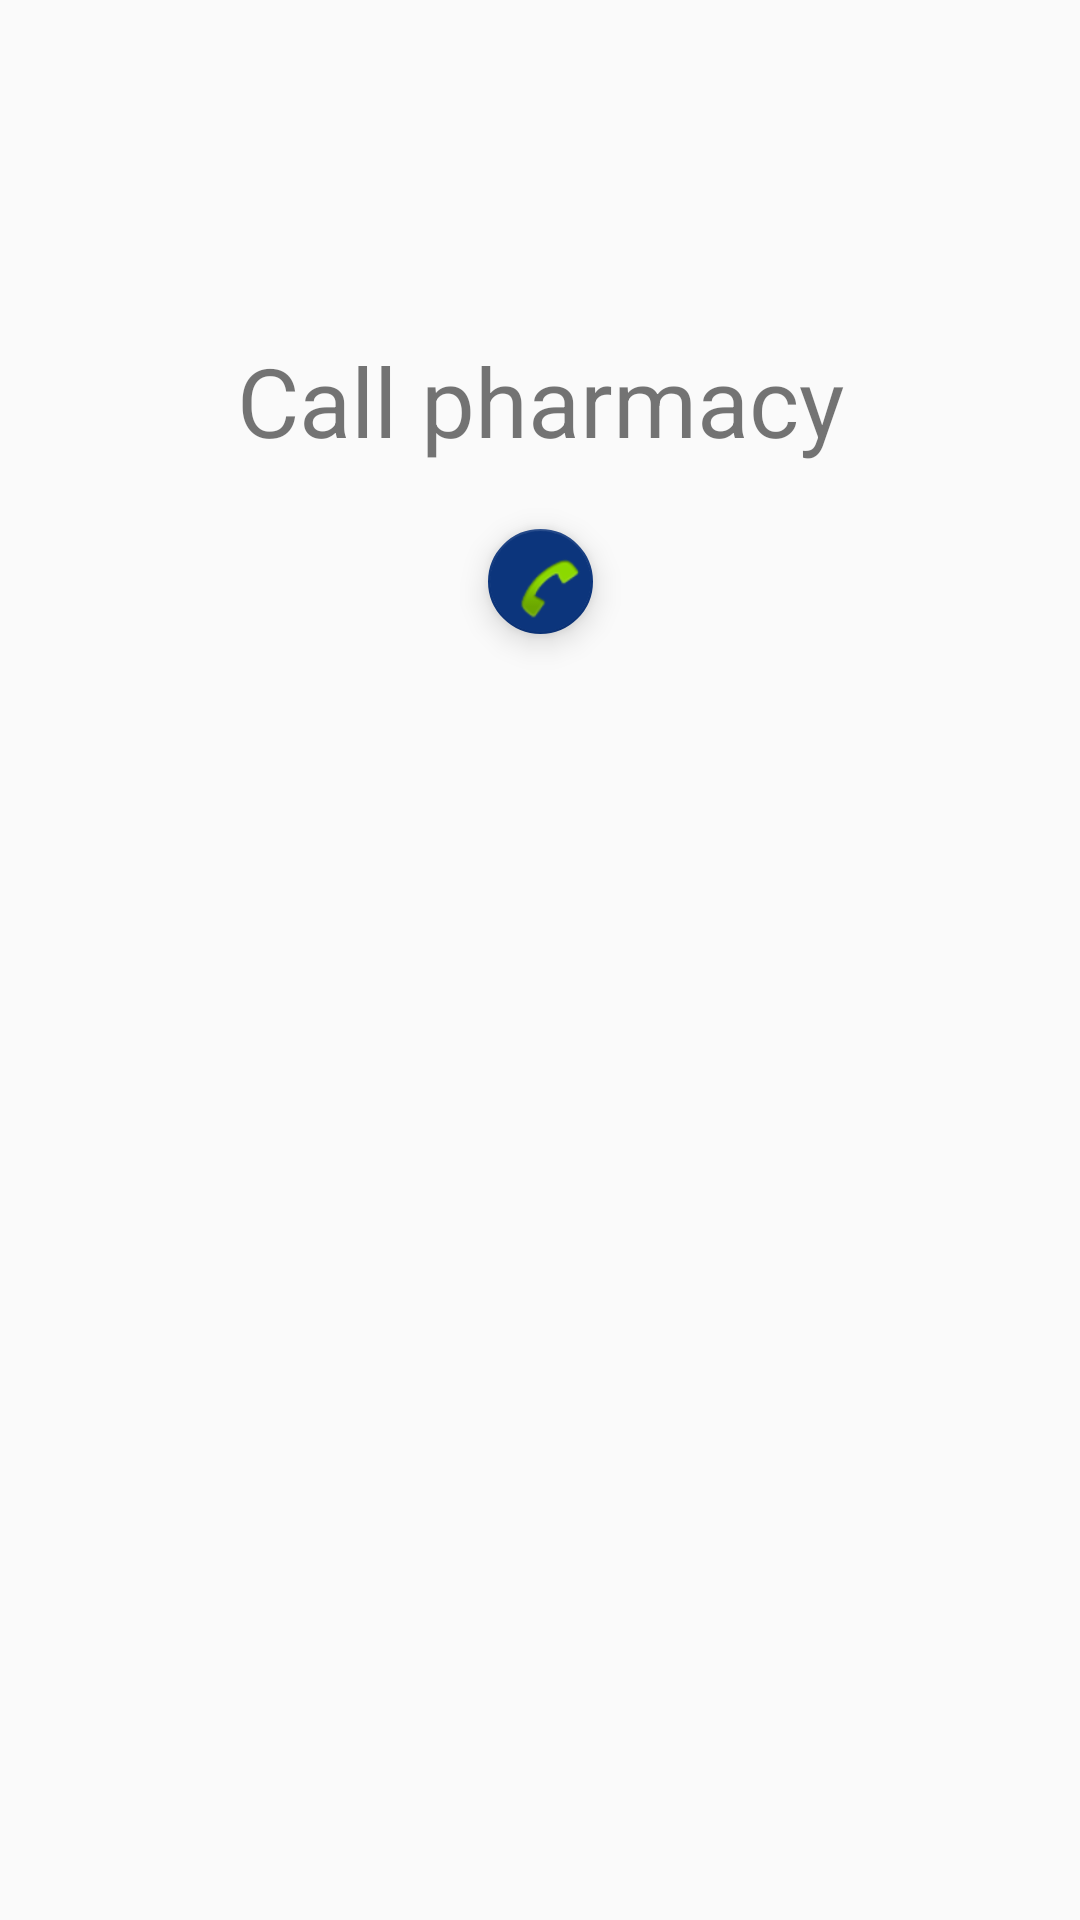

Icons on this 1080 × 1920 Android screen, each with its box as (x1=x1, y1=y1, x2=x2, y2=y2):
sym action call: (x1=488, y1=529, x2=593, y2=634)
